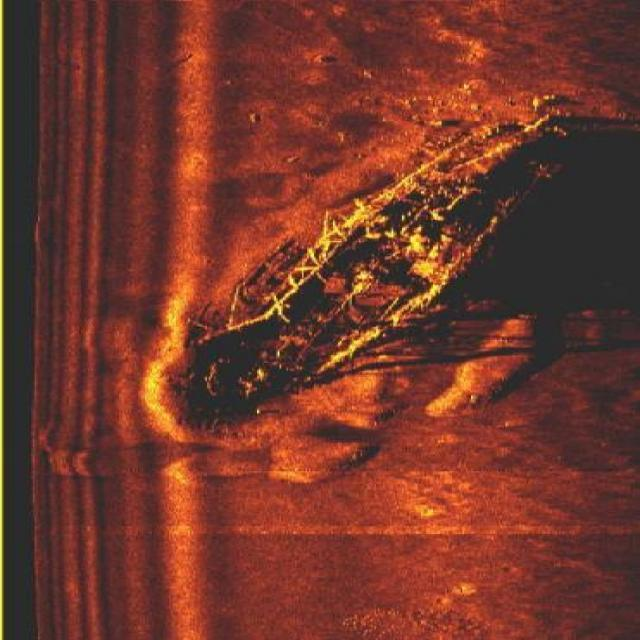shipwreck: (195, 110, 580, 396)
